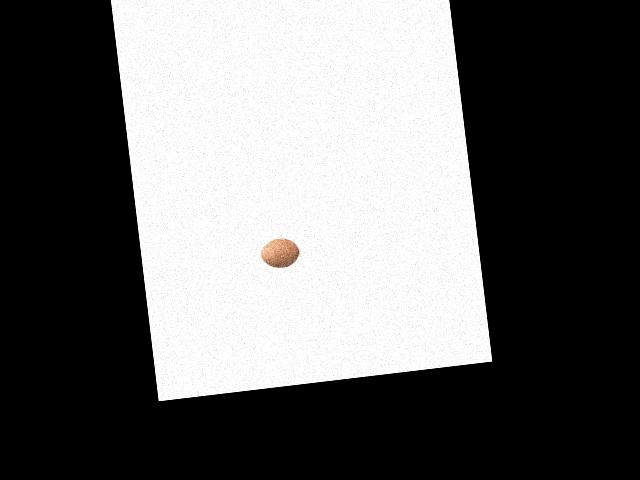egg: (260, 237, 301, 270)
